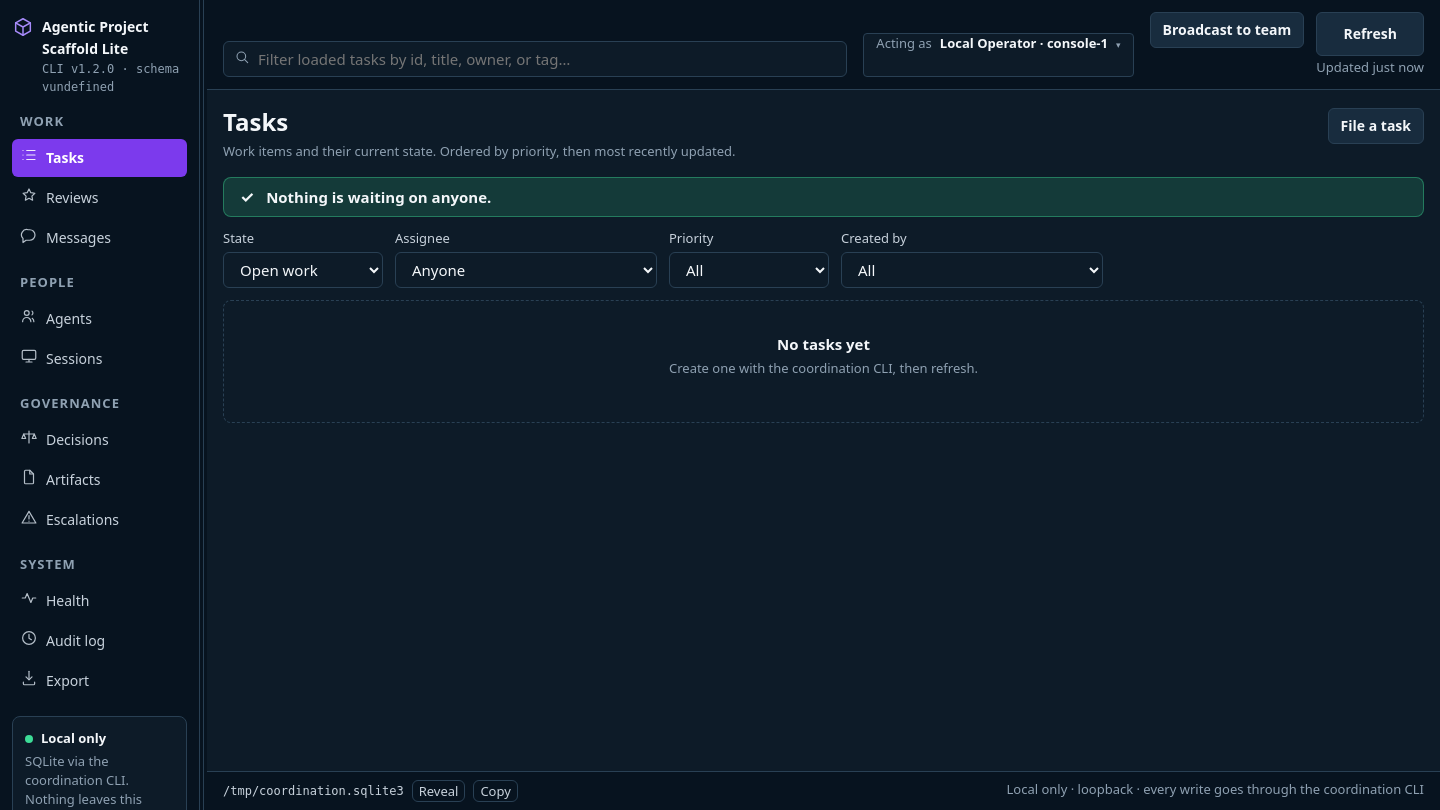
Test case: Broadcast within the app shell › makes the whole background shell inert while open, not just the content
What coordinates should you click on to do the following:
click the button "Broadcast to team"
I would click on:
 (1227, 30)
Its box is [1150, 12, 1304, 48].
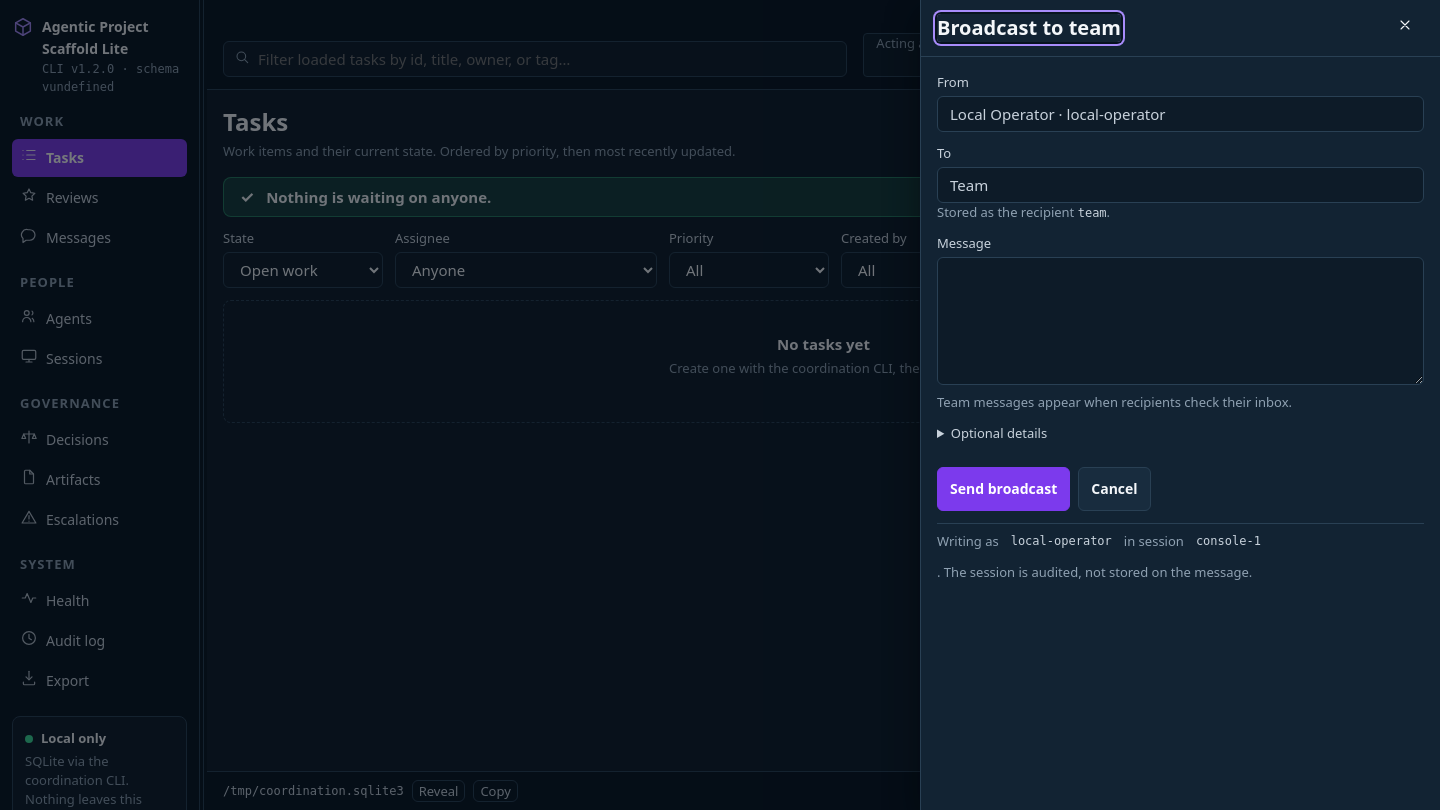
Expected: the navigation bar with class "nav" is shown, [0, 0, 200, 809]
Now the dialog is shown, box [920, 0, 1439, 809]
